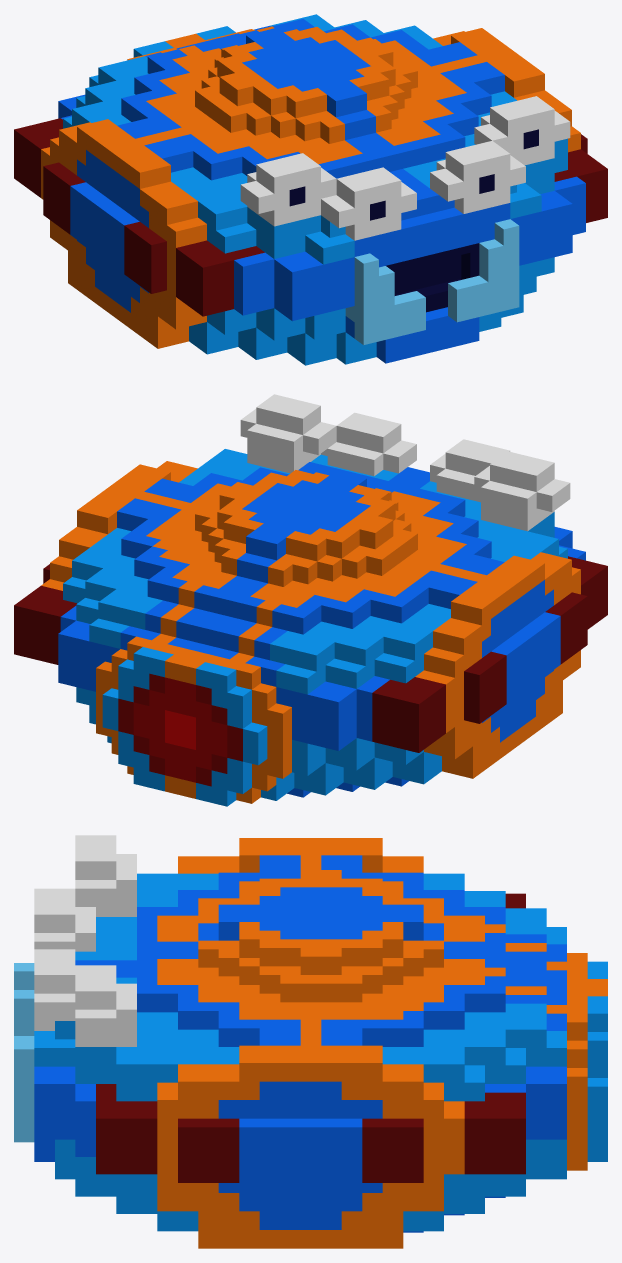
File: spiderhead.obj
The picture shows the model from 3 angles, top to bottom: view 1: azimuth 30°, elevation 25°; view 2: azimuth 150°, elevation 25°; view 3: azimuth 270°, elevation 25°; orthographic projection. The views are drawn at different scales.
Size of the model in its own units: 2.8 by 1.5 by 2.9.
Materials: 1 (1 with a texture image).
